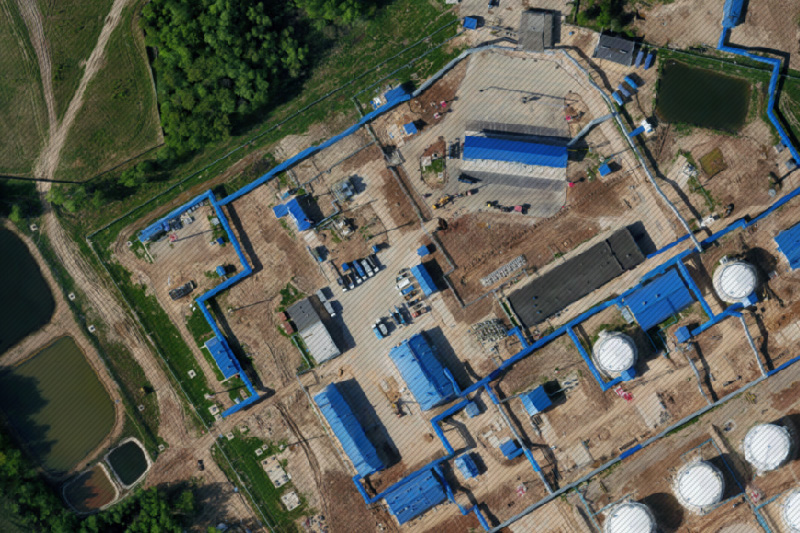build: (310, 384, 386, 477), (459, 133, 574, 184), (388, 332, 460, 406), (623, 267, 697, 328), (384, 460, 448, 524), (517, 8, 557, 56), (273, 195, 317, 234), (201, 338, 239, 381), (595, 34, 635, 67)
